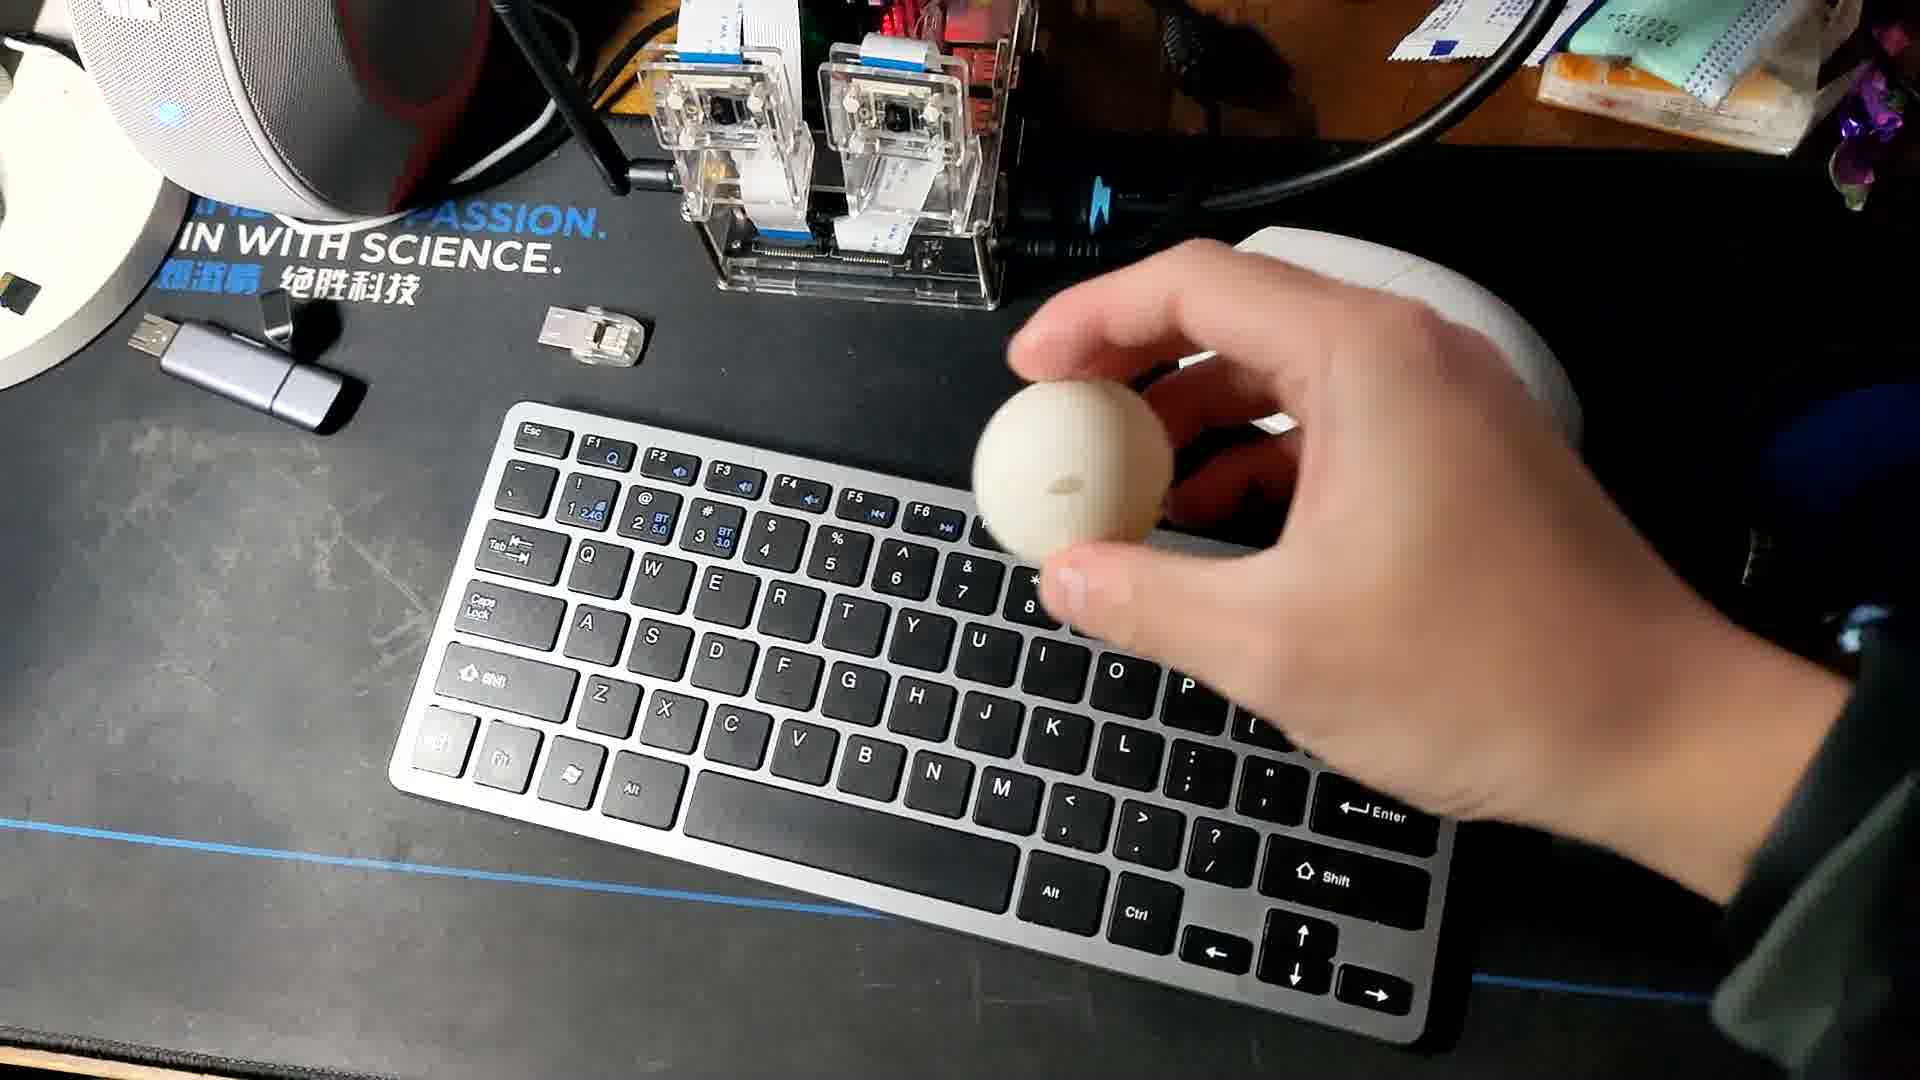Ball: (976, 380, 1174, 580)
